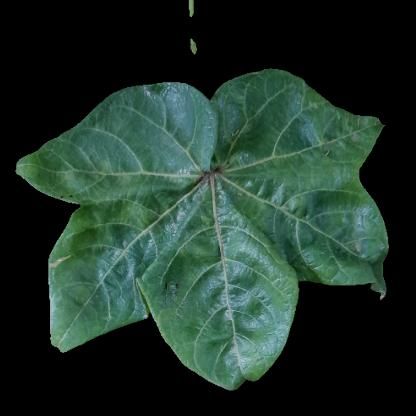healthy: (86, 110, 201, 270), (212, 119, 320, 281), (188, 293, 290, 366), (51, 274, 133, 330), (323, 196, 376, 268), (229, 80, 302, 118), (324, 120, 376, 163), (31, 146, 85, 187)
